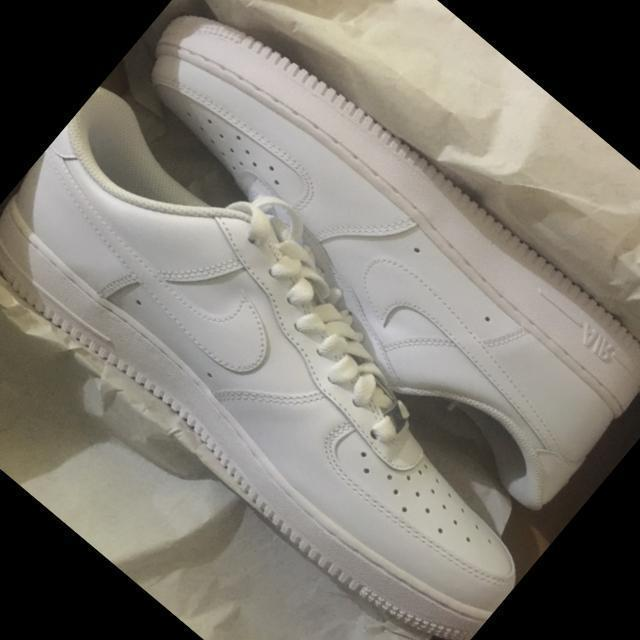nike original air force: (0, 81, 593, 640), (72, 0, 640, 528)
